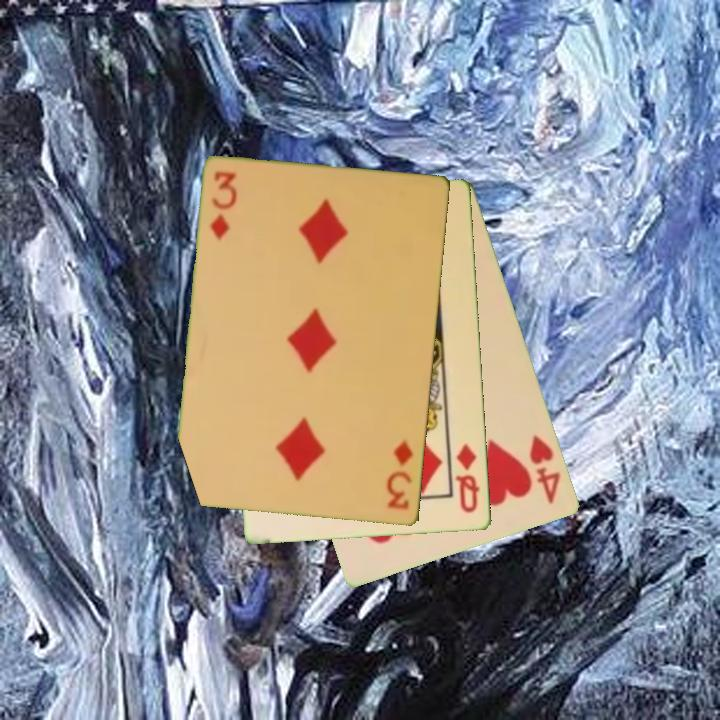3d: (383, 438, 417, 513), (207, 168, 239, 244)
4h: (526, 431, 564, 508)
Qd: (452, 441, 483, 516)
